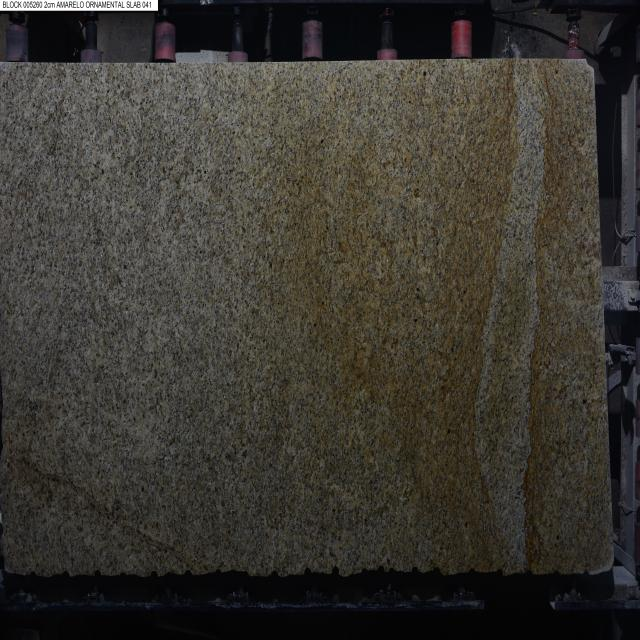chapa: (0, 60, 612, 576)
veio: (328, 562, 342, 580)
